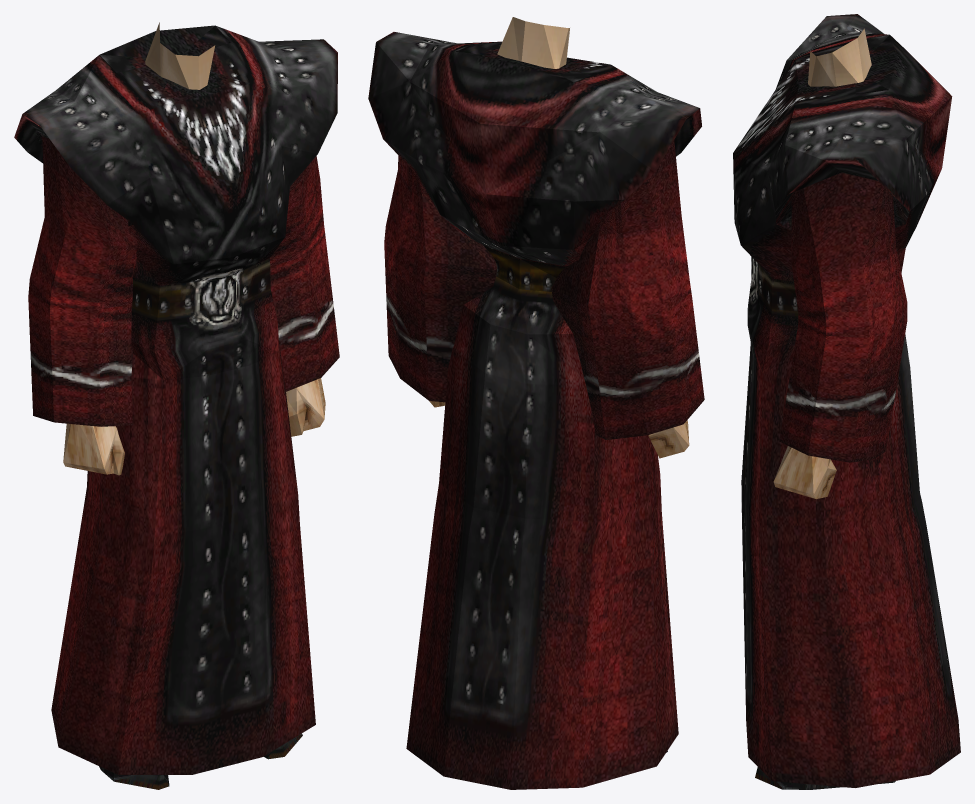
Rendered from KDF_ARMOR_L-BepWKWcl.glb.
The picture shows the model from 3 angles, left to right: view 1: azimuth 30°, elevation 25°; view 2: azimuth 150°, elevation 25°; view 3: azimuth 270°, elevation 25°; orthographic projection. The views are drawn at different scales.
Visible parts, largest first — view 1: zm_KDFL, zm_Body; view 2: zm_KDFL, zm_Body; view 3: zm_KDFL, zm_Body.
Boxes of the visible parts, x1,y1,x2,y2 form: zm_KDFL: (14,25,339,774); zm_Body: (63,22,325,789); zm_KDFL: (368,32,704,789); zm_Body: (429,17,689,752); zm_KDFL: (733,14,960,787); zm_Body: (755,28,895,789).
Bounding box in the file's own units: 0.7227 × 1.65 × 0.4711.
Materials: 2 (2 with a texture image).
